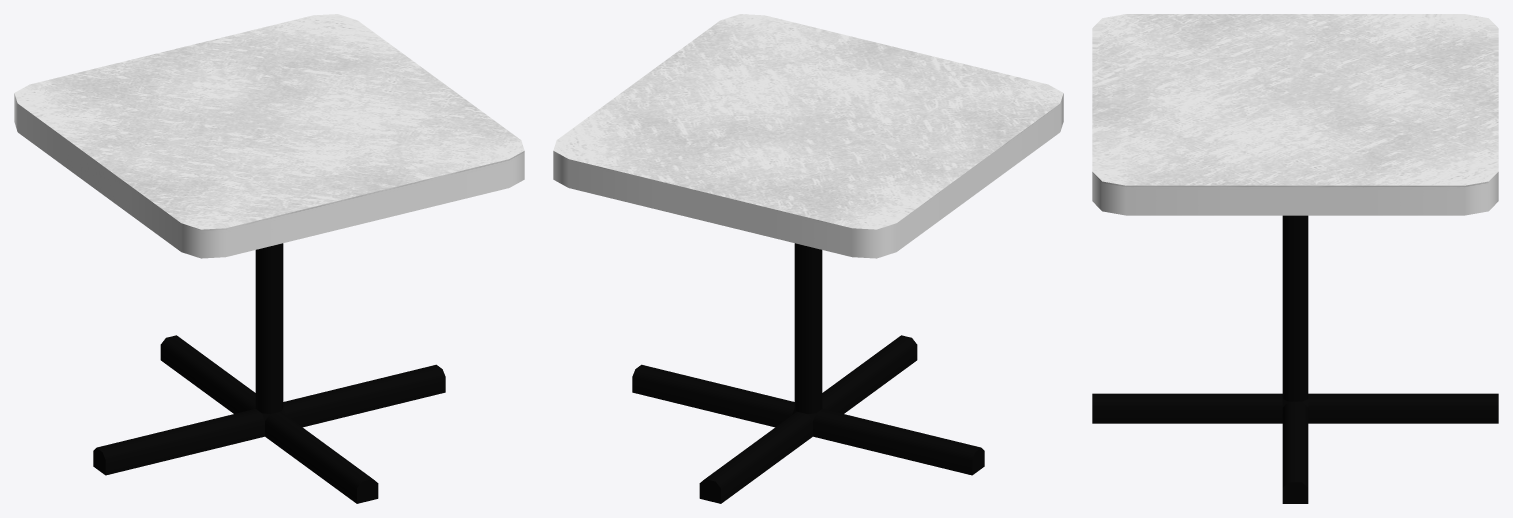
File: MarbleTable.fbx
3 renders of one model, left to right at view 1: azimuth 30°, elevation 25°; view 2: azimuth 150°, elevation 25°; view 3: azimuth 270°, elevation 25°, orthographic. The views are drawn at different scales.
Visible parts, largest first — view 1: SceneWithStuff9:SceneWithStuff3:pCube1; view 2: SceneWithStuff9:SceneWithStuff3:pCube1; view 3: SceneWithStuff9:SceneWithStuff3:pCube1.
Boxes of the visible parts, x1=… form: SceneWithStuff9:SceneWithStuff3:pCube1: x1=14, y1=14, x2=524, y2=503; SceneWithStuff9:SceneWithStuff3:pCube1: x1=553, y1=14, x2=1063, y2=503; SceneWithStuff9:SceneWithStuff3:pCube1: x1=1092, y1=14, x2=1498, y2=503.
Size of the model in its own units: 1 by 0.8645 by 1.
Materials: 2 (2 with a texture image).
